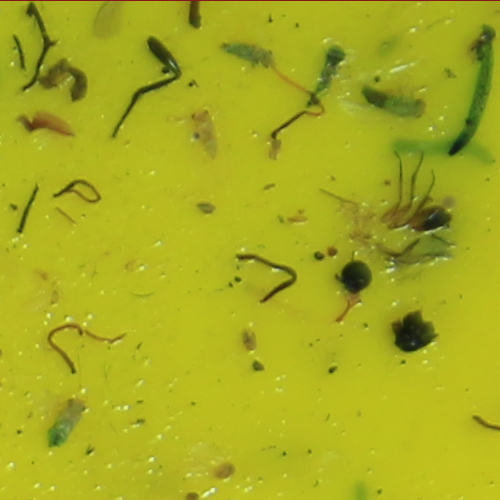psylla: (359, 82, 432, 123), (43, 396, 88, 447), (189, 108, 223, 169), (217, 39, 277, 70)
